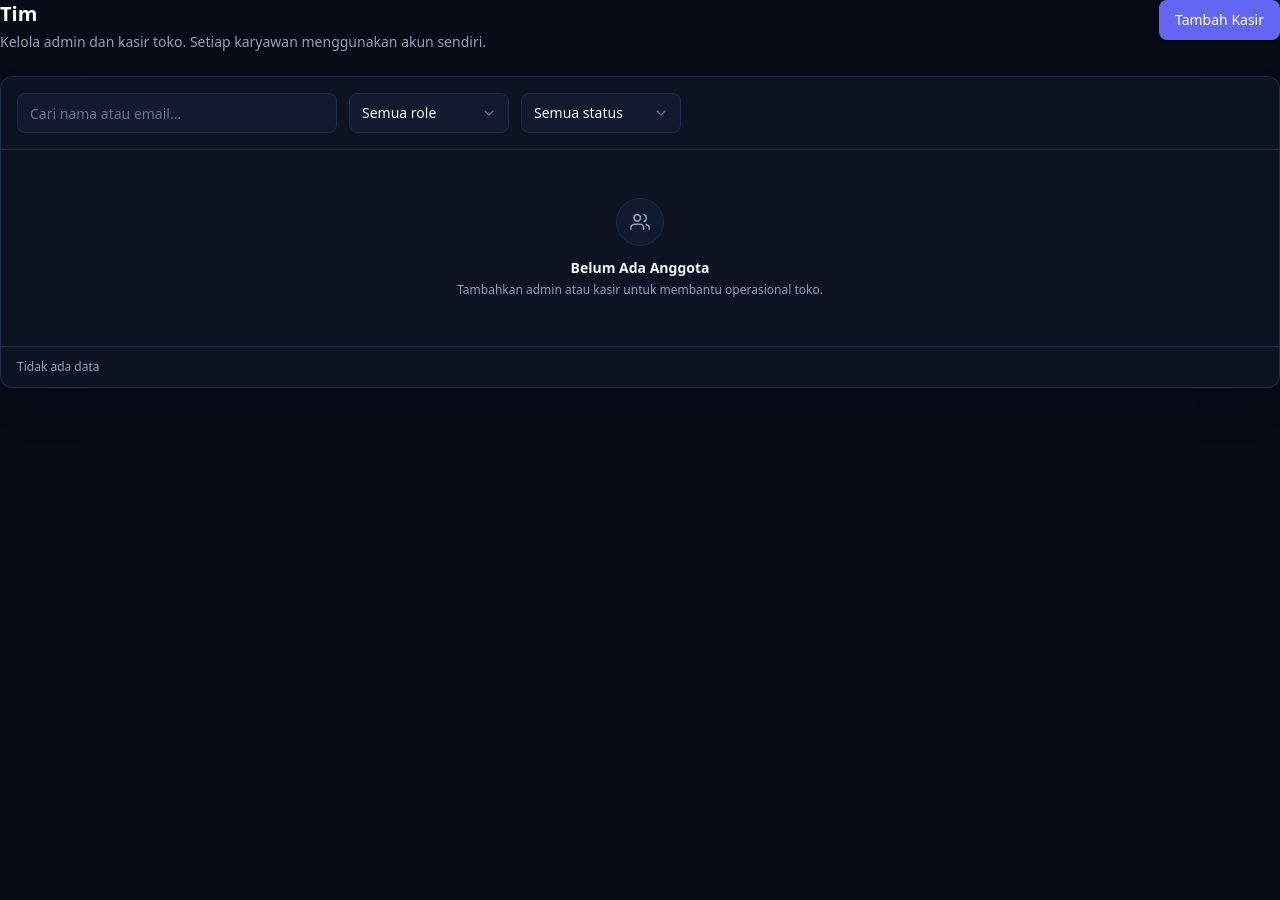
Test case: TeamPage › handles a duplicate email when creating a cashier
Click the button "Tambah Kasir" at (1220, 20), box [1159,0,1279,40]
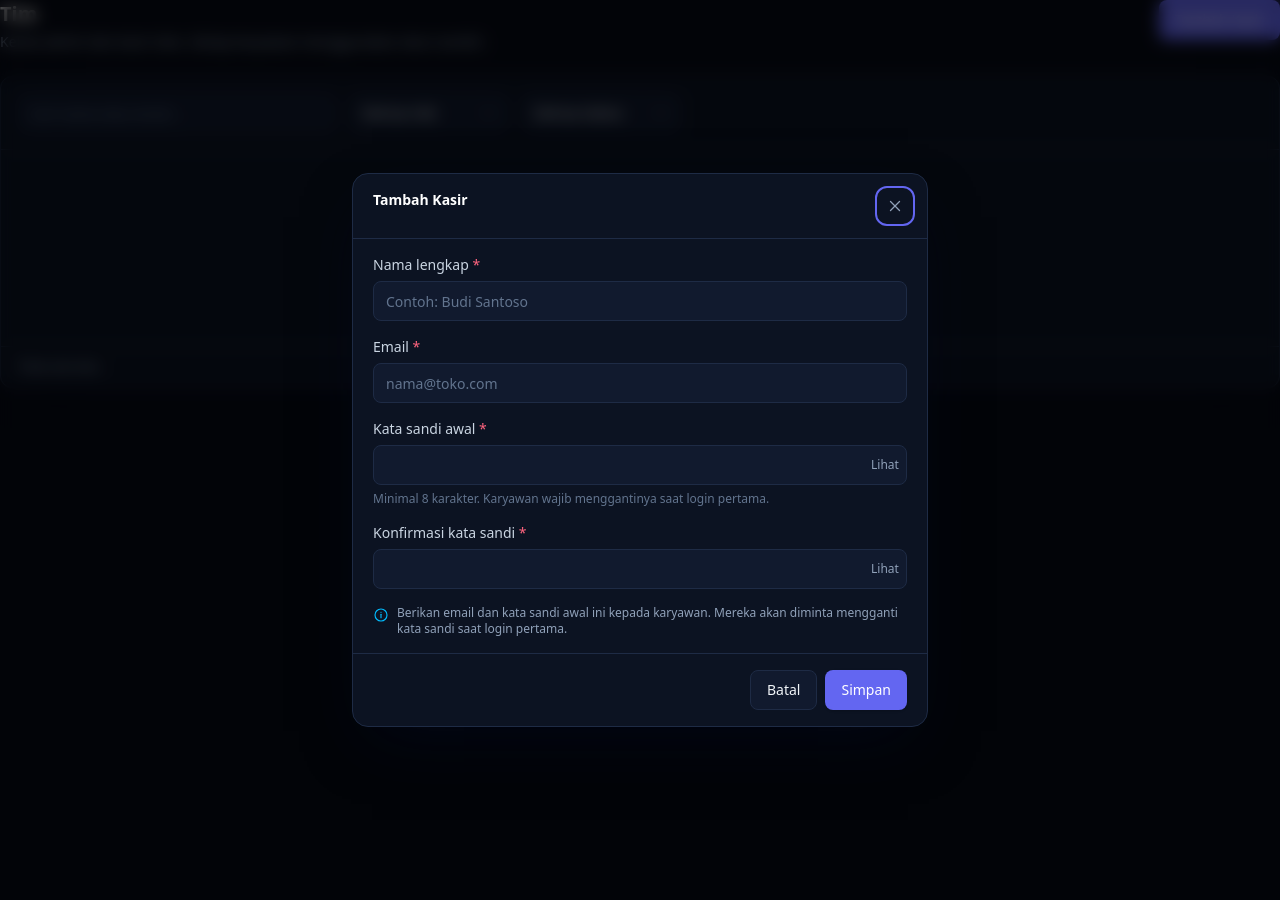
Type "Admin Baru" into the field named "name" at (640, 301), box [373,281,907,321]
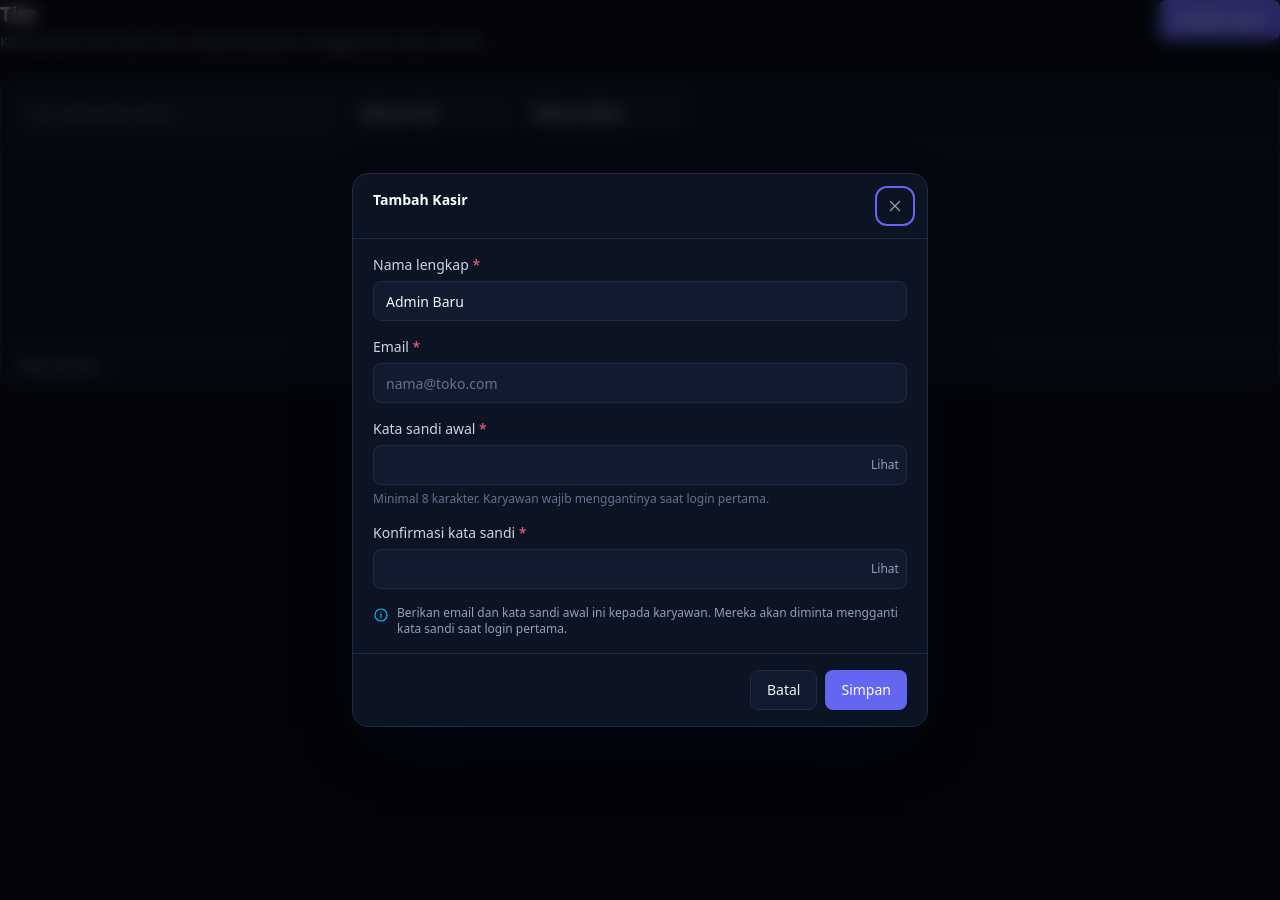
Type "baru@example.com" into the field named "email" at (640, 383), box [373,363,907,403]
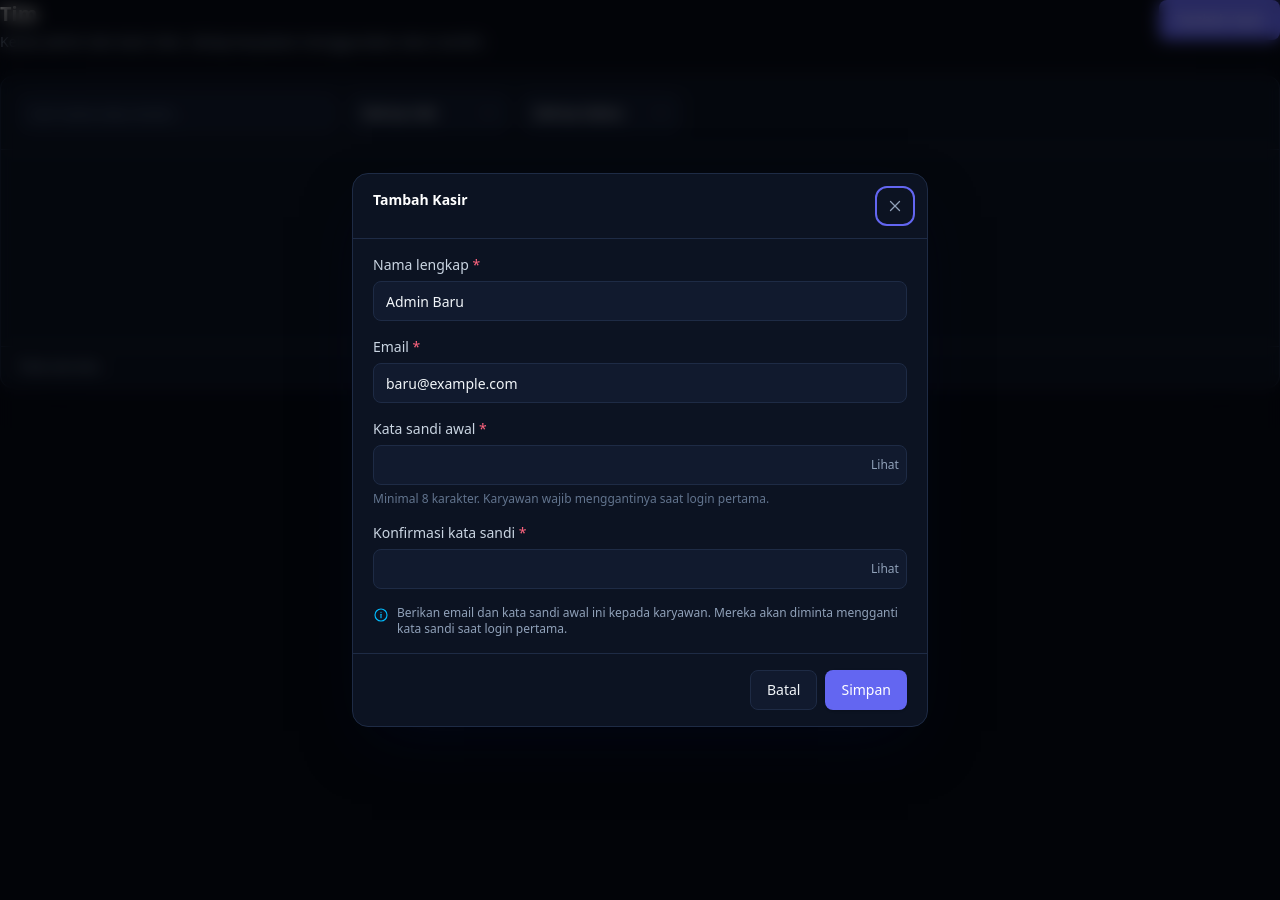
Type "password123" into the password field named "password" at (640, 465), box [373,445,907,485]
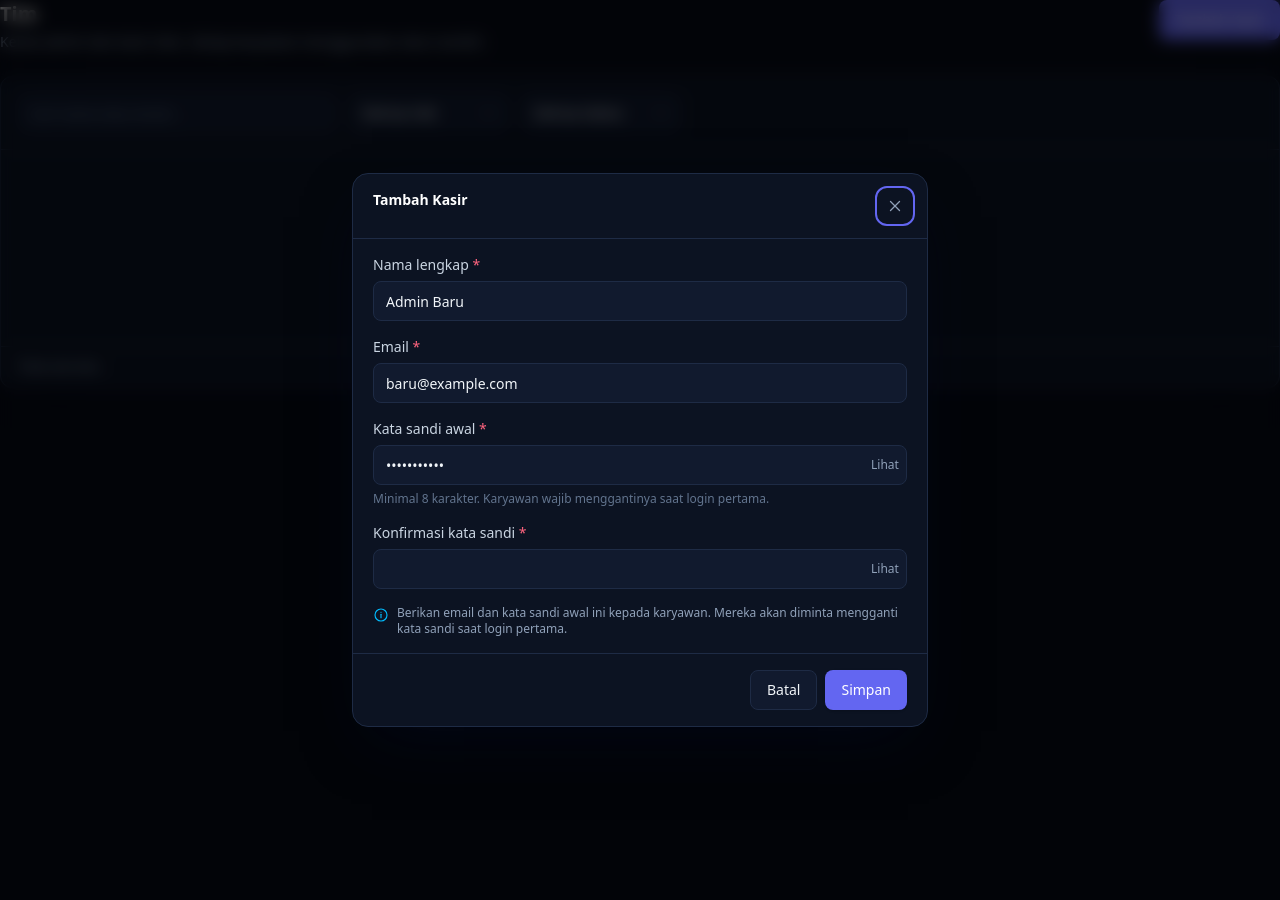
Type "password123" into the password field named "password_confirmation" at (640, 569), box [373,549,907,589]
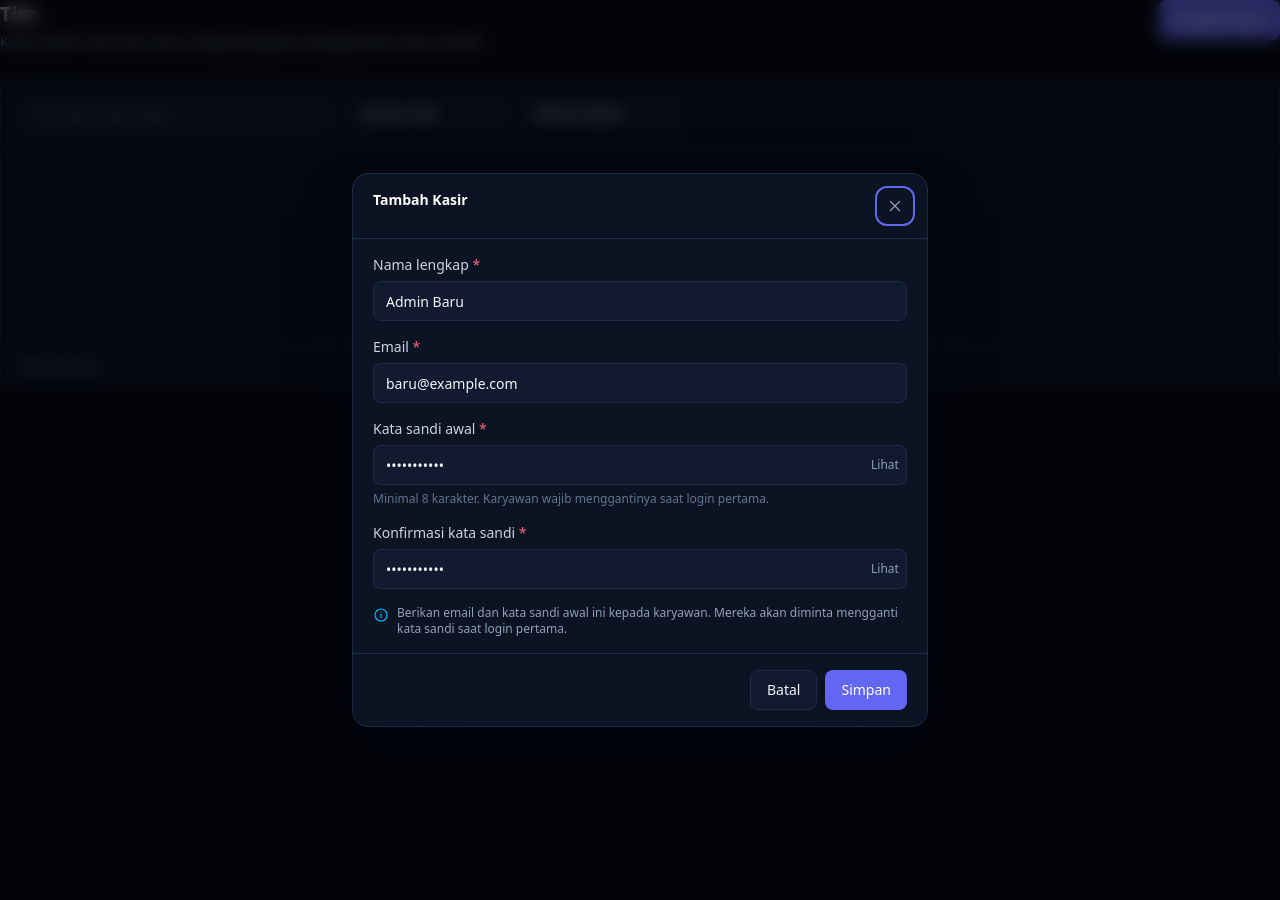
Submit the form with id "member-form", box [373,255,907,637]
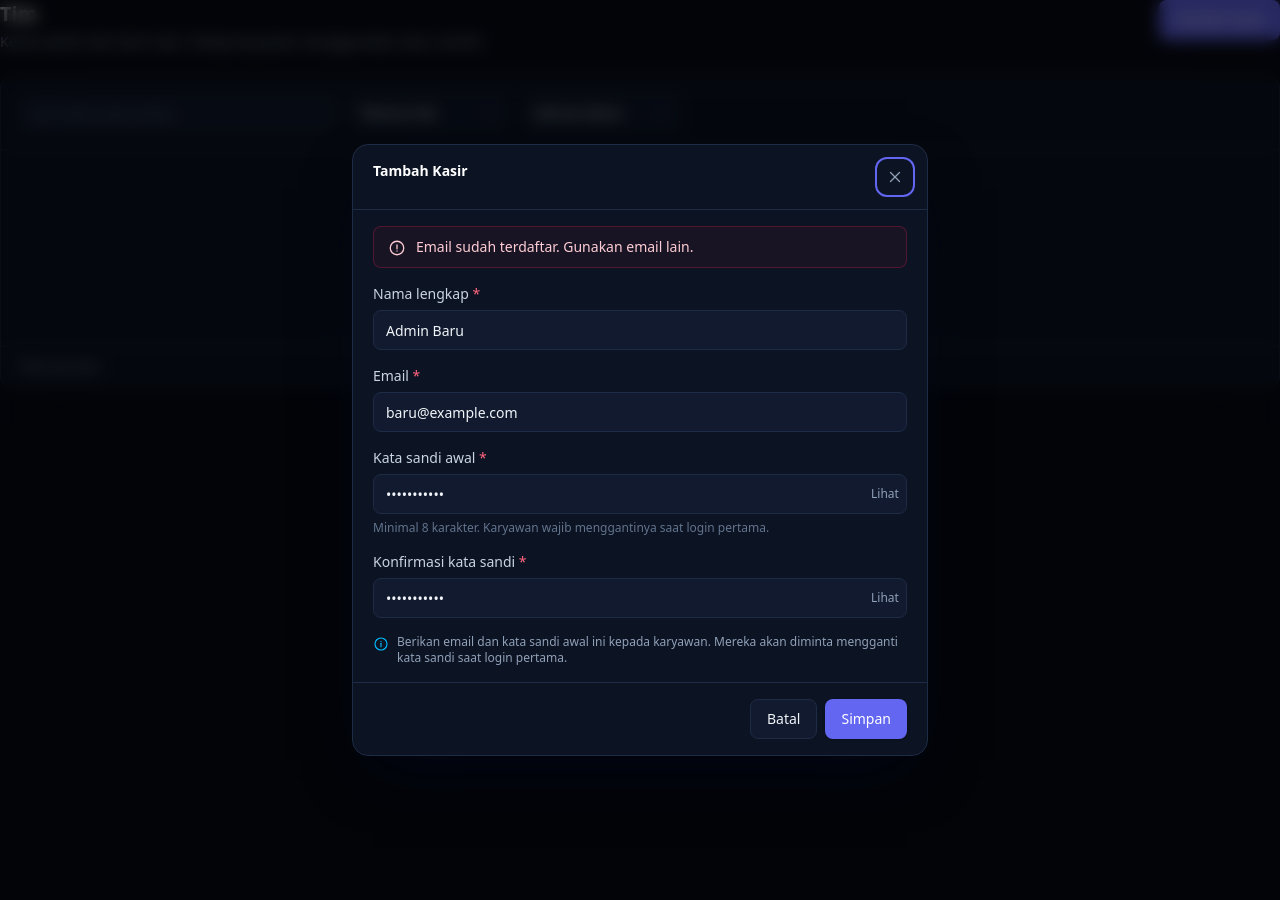
expect the text "sudah terdaftar" is shown: met, box [416,237,693,256]
